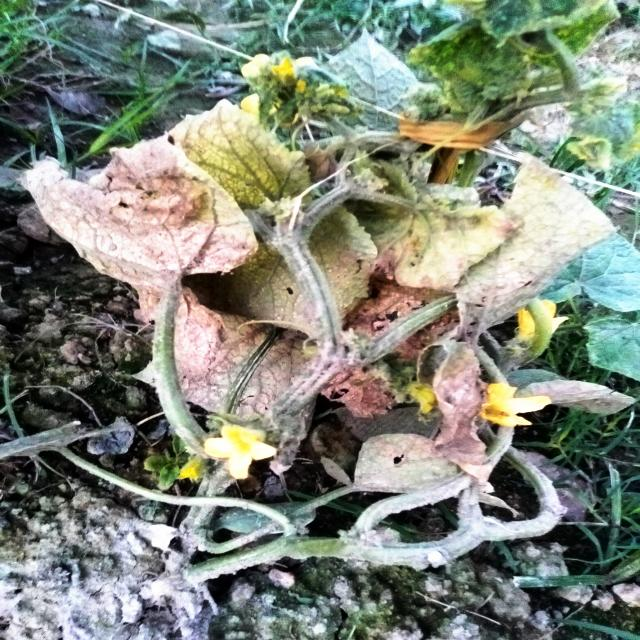Bacterial-Wilt: (22, 131, 264, 323)
